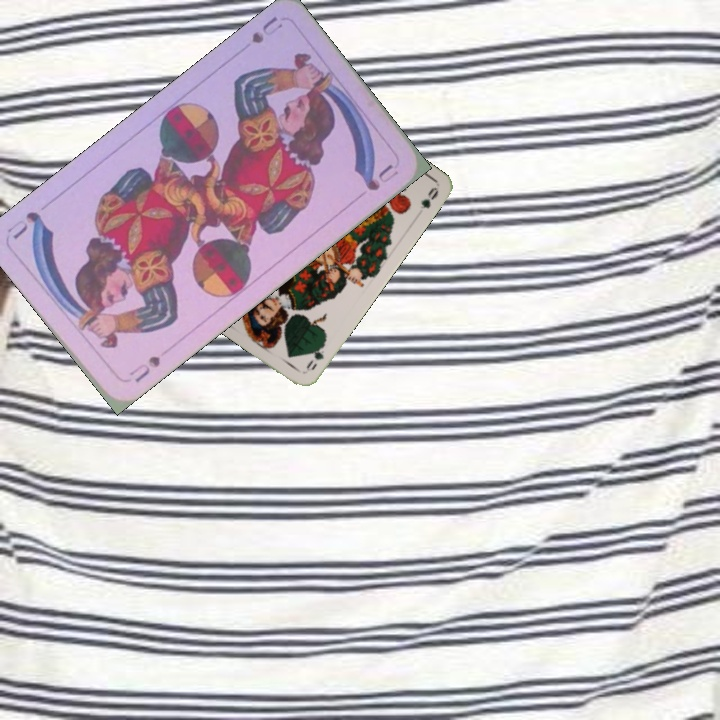GO: (302, 338, 328, 375)
SU: (247, 11, 286, 47), (125, 351, 163, 385)
